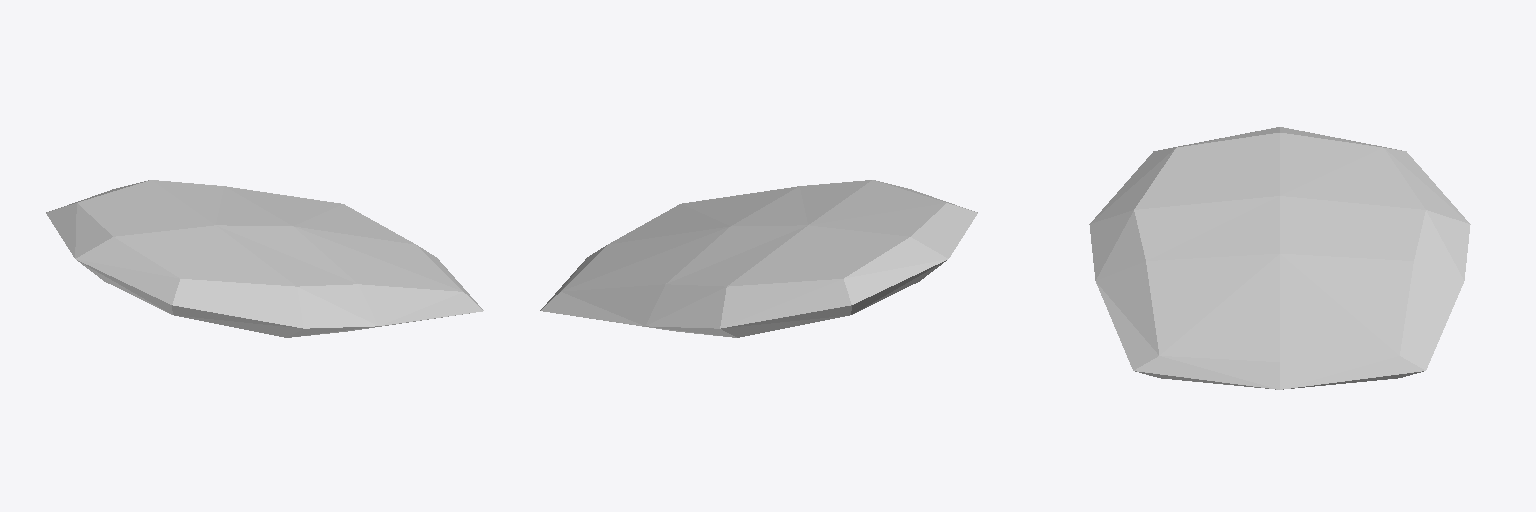
Rendered from owl_tail2.obj.
3 views of the same model, side by side, from view 1: azimuth 30°, elevation 25°; view 2: azimuth 150°, elevation 25°; view 3: azimuth 270°, elevation 25° (orthographic).
Visible parts, largest first — view 1: owl_tail2; view 2: owl_tail2; view 3: owl_tail2.
Part boxes in pixels (x1,y1,x2,y2): owl_tail2: (46, 180, 483, 337); owl_tail2: (540, 180, 977, 337); owl_tail2: (1089, 127, 1470, 389).
Size of the model in its own units: 0.2563 by 0.0731 by 0.2339.